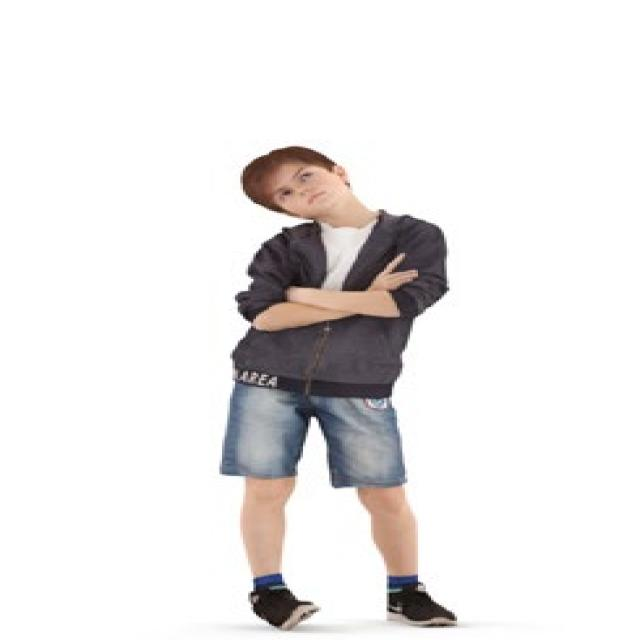standing: (220, 143, 466, 630)
